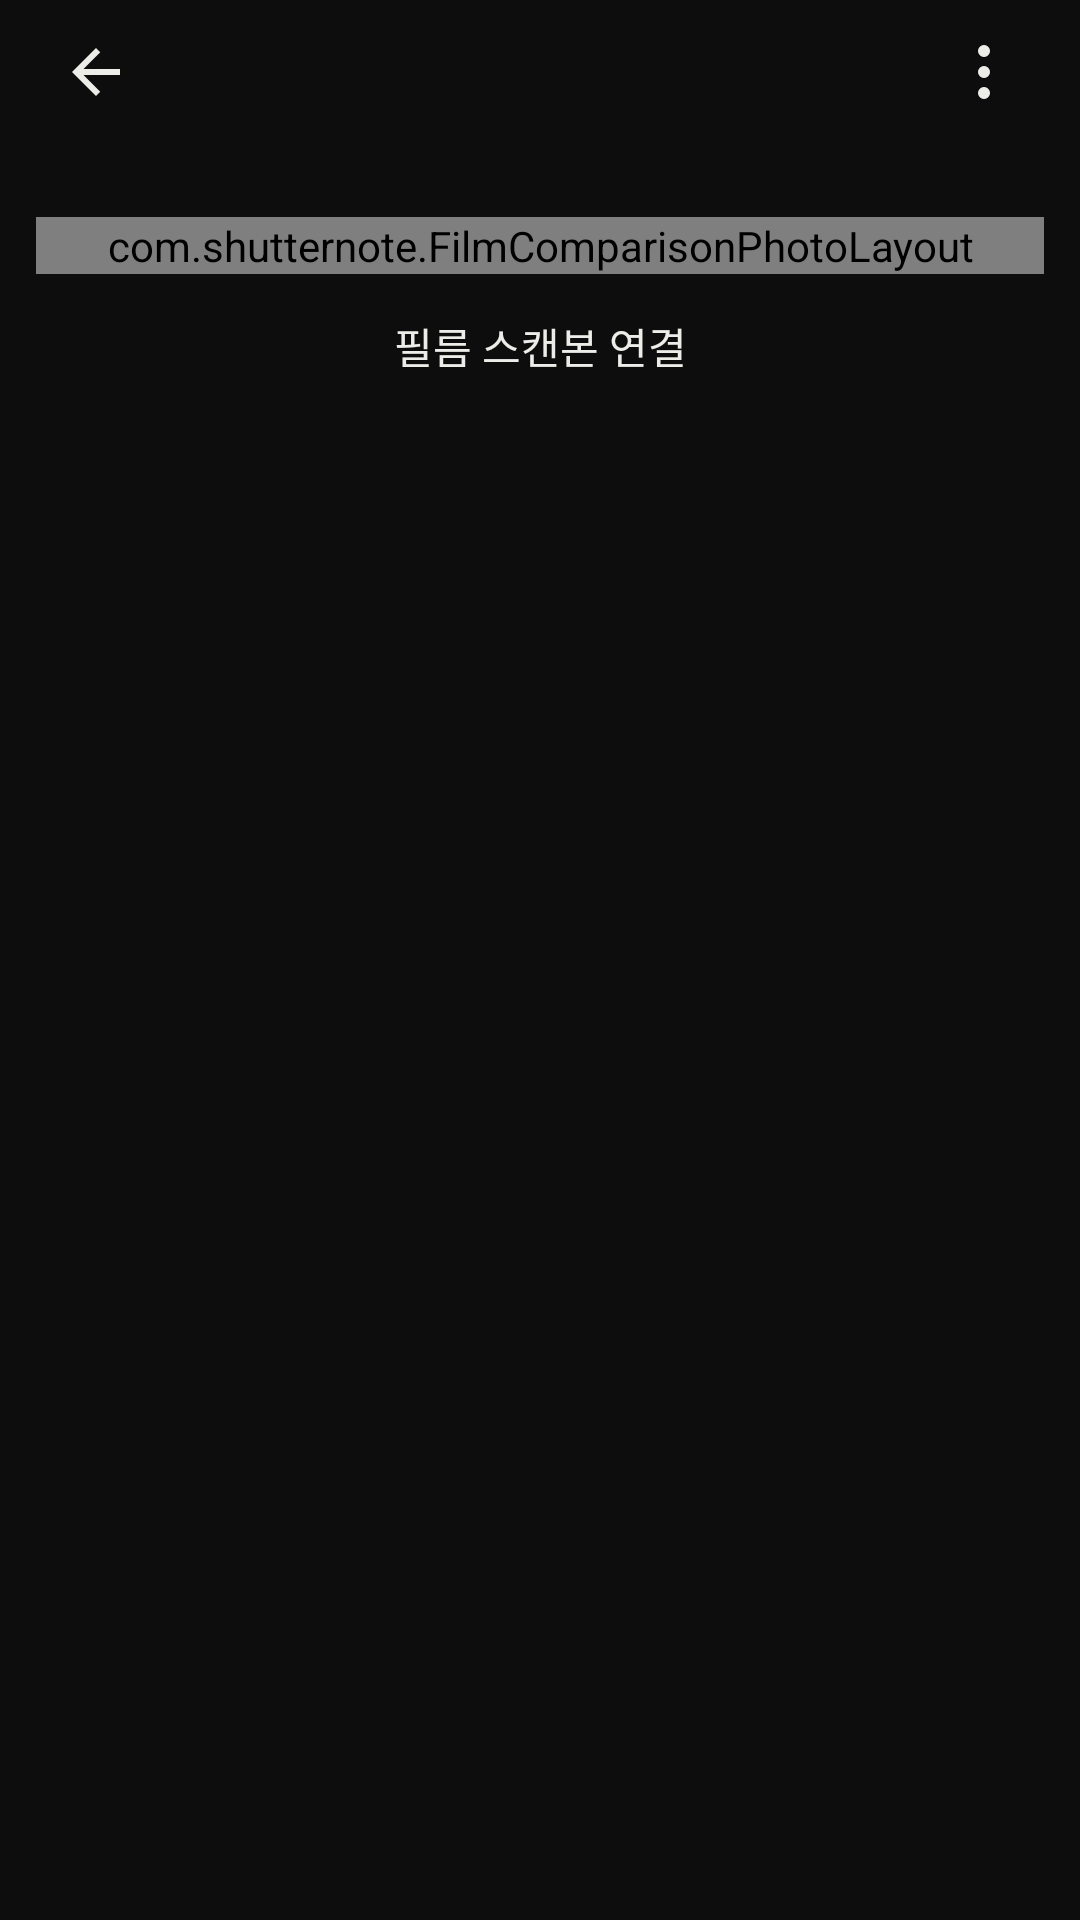

Named icons in this screenshot (1080x1920) and their centers, (x=x, y=y):
사진 목록으로 돌아가기: (x=96, y=72)
